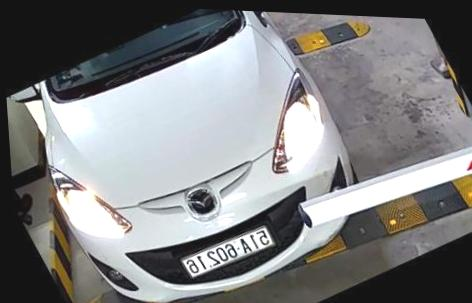License_Plate: (167, 218, 281, 284)
